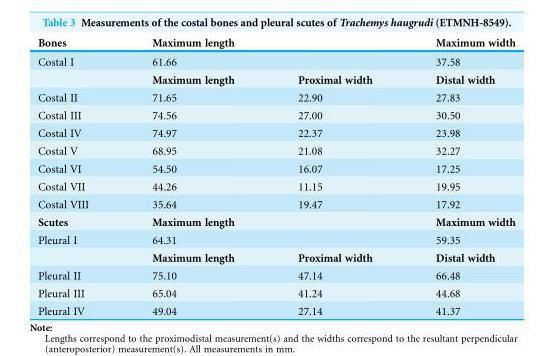table: (37, 37, 514, 316)
table column: (119, 37, 265, 316), (265, 37, 403, 316), (403, 37, 514, 316), (37, 37, 119, 316)
table column header: (37, 37, 514, 52)
table row: (37, 52, 514, 71), (37, 88, 514, 106), (37, 106, 514, 124), (37, 124, 514, 142), (37, 142, 514, 160), (37, 177, 514, 195), (37, 195, 514, 213), (37, 213, 514, 231), (37, 231, 514, 249), (37, 266, 514, 284), (37, 284, 514, 302), (37, 71, 514, 88), (37, 160, 514, 177), (37, 249, 514, 266), (37, 37, 514, 52), (37, 302, 514, 316)
table spanning cell: (37, 52, 119, 88), (37, 231, 119, 266)
